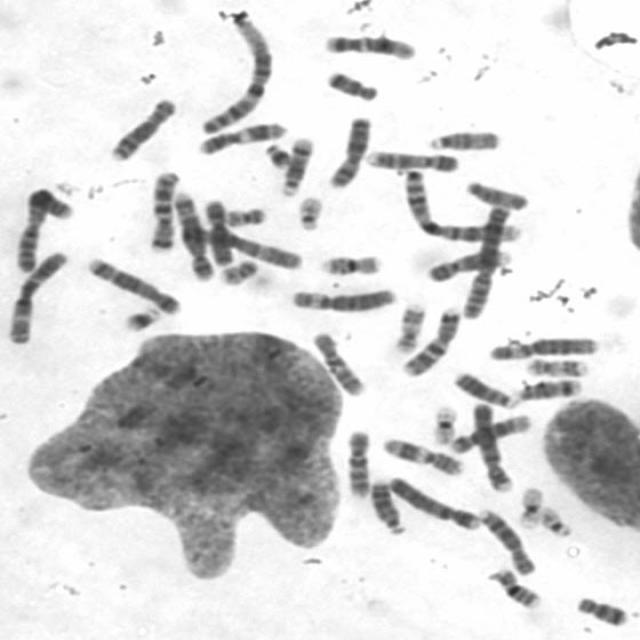A1: (193, 10, 274, 136), (399, 165, 523, 246)
A2: (457, 200, 516, 321), (10, 184, 77, 275)
A3: (1, 246, 71, 346), (178, 223, 305, 271)
B4: (381, 471, 482, 532), (466, 397, 518, 494)
B5: (80, 251, 184, 317), (168, 186, 217, 282)
C10: (309, 327, 369, 398), (339, 423, 375, 500)
C11: (377, 433, 466, 477), (195, 116, 292, 156)
C12: (446, 410, 534, 454), (320, 29, 421, 62)
C6: (284, 282, 399, 314), (485, 332, 601, 362)
C7: (396, 302, 463, 378), (144, 165, 182, 255)
C8: (104, 94, 178, 163), (473, 506, 538, 576)
C9: (422, 247, 513, 284), (361, 146, 463, 174)
D13: (448, 368, 518, 409), (366, 474, 409, 536)
D14: (276, 132, 316, 197), (510, 373, 584, 404)
D15: (461, 178, 529, 210), (422, 125, 502, 152)
E16: (483, 563, 544, 611), (316, 251, 383, 277)
E17: (390, 298, 427, 356), (521, 354, 591, 378)
E18: (570, 590, 631, 628), (320, 66, 381, 102)
F19: (426, 399, 462, 446), (513, 483, 546, 529)
F20: (213, 252, 260, 286), (220, 202, 268, 228)
G21: (118, 300, 163, 332), (262, 139, 296, 171)
G22: (291, 191, 327, 233), (536, 502, 575, 538)
X: (324, 111, 375, 190), (200, 194, 237, 268)
